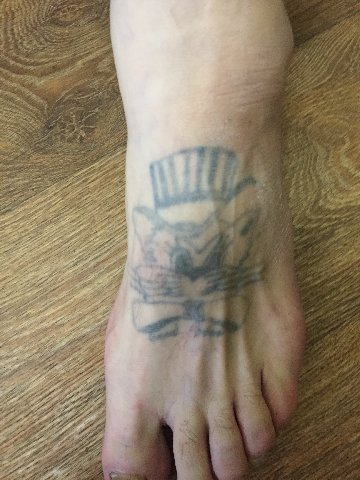tatu8_kot: (125, 136, 280, 343)
